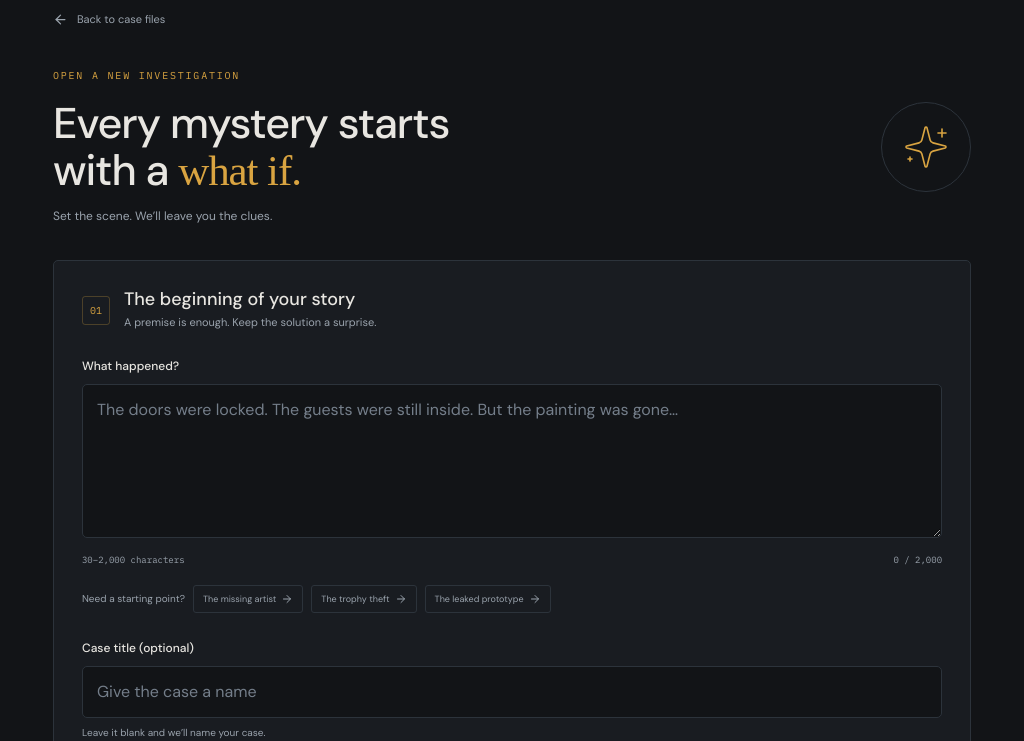
Test: M3 forms › FR-12 sends an idempotency key and disables creation while pending
Click the button "The missing artist": (248, 599) [193, 585, 303, 613]
(page scrolled)
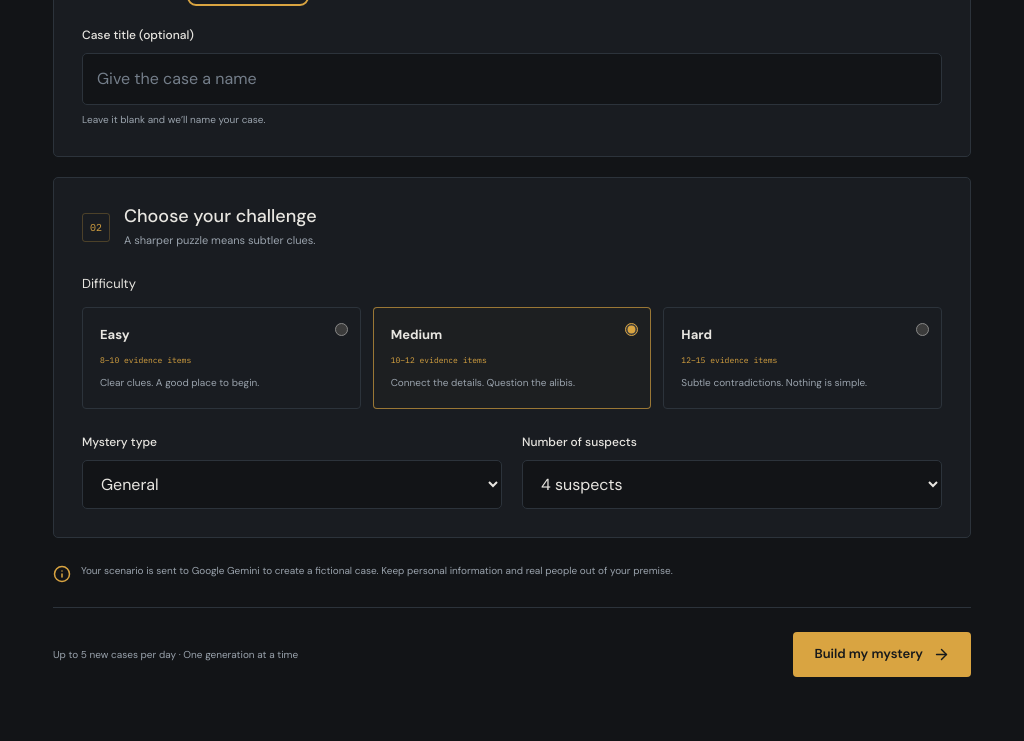
Click the button "Build my mystery": (882, 654) [794, 632, 971, 677]
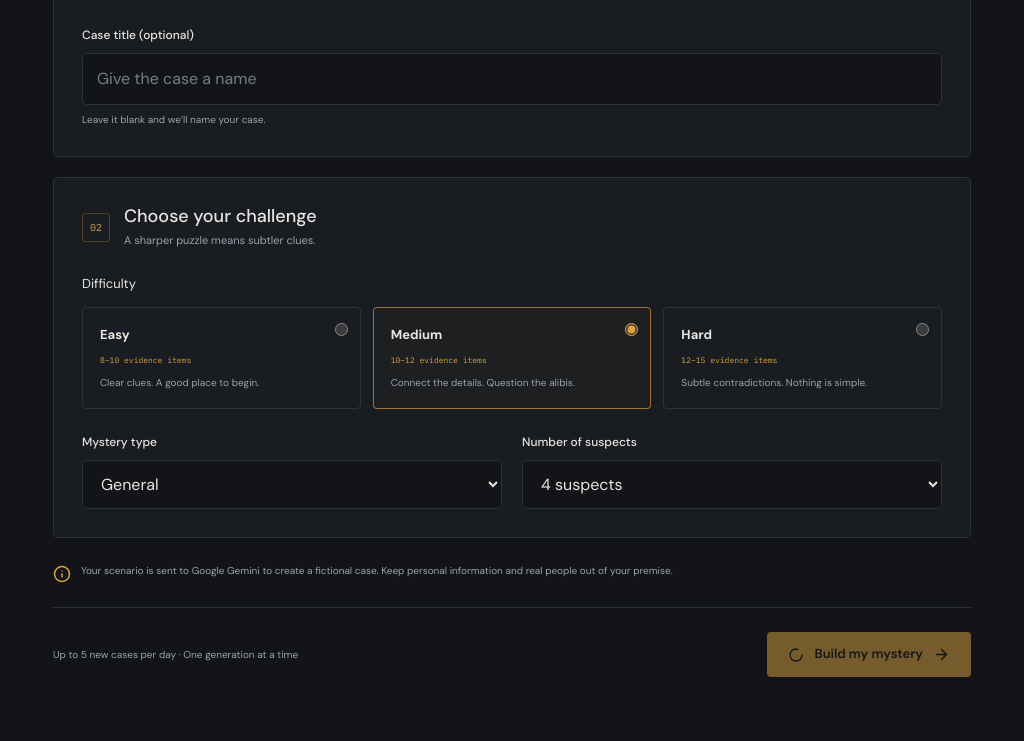
Check: the button "Build my mystery" is disabled, box [768, 632, 971, 677]
